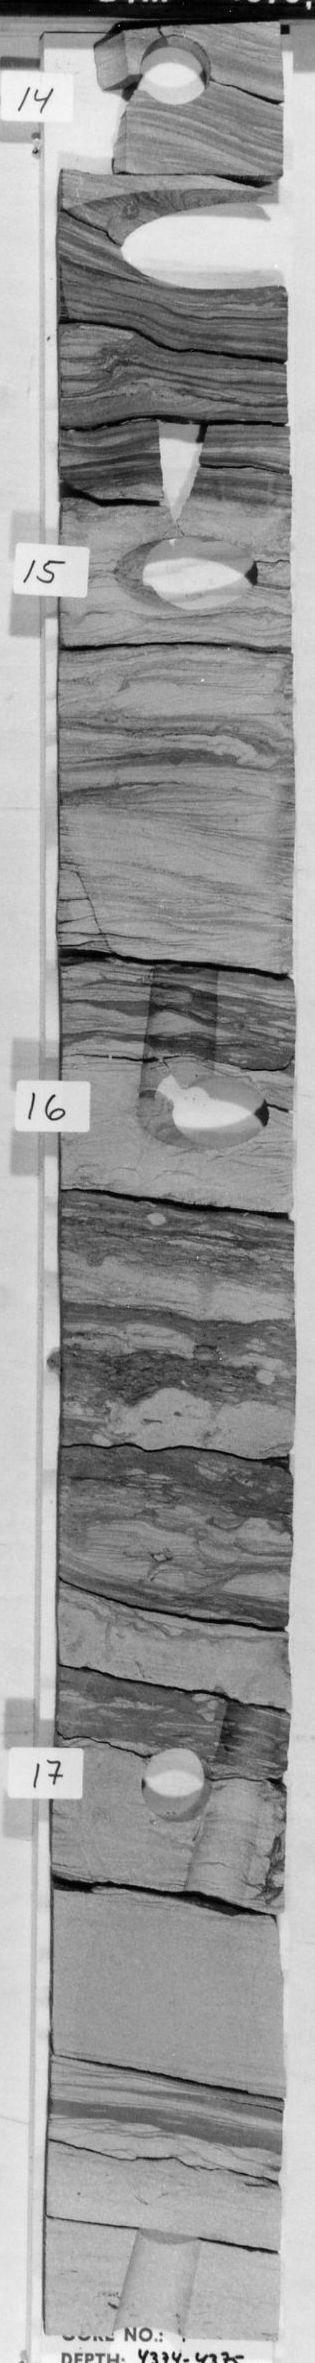hplug: (116, 1065, 283, 1160), (109, 535, 261, 619), (127, 1735, 216, 1827)
scal: (109, 182, 286, 310)
vplug: (191, 1697, 288, 1917), (131, 952, 226, 1102), (106, 2220, 208, 2345), (57, 35, 136, 190), (143, 405, 213, 532)
